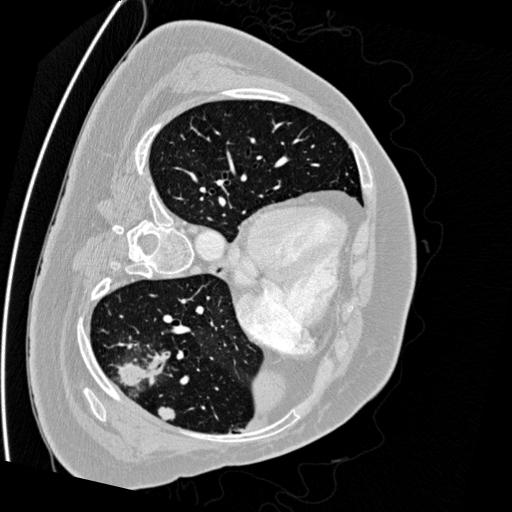nodule: (117, 359, 151, 393)
